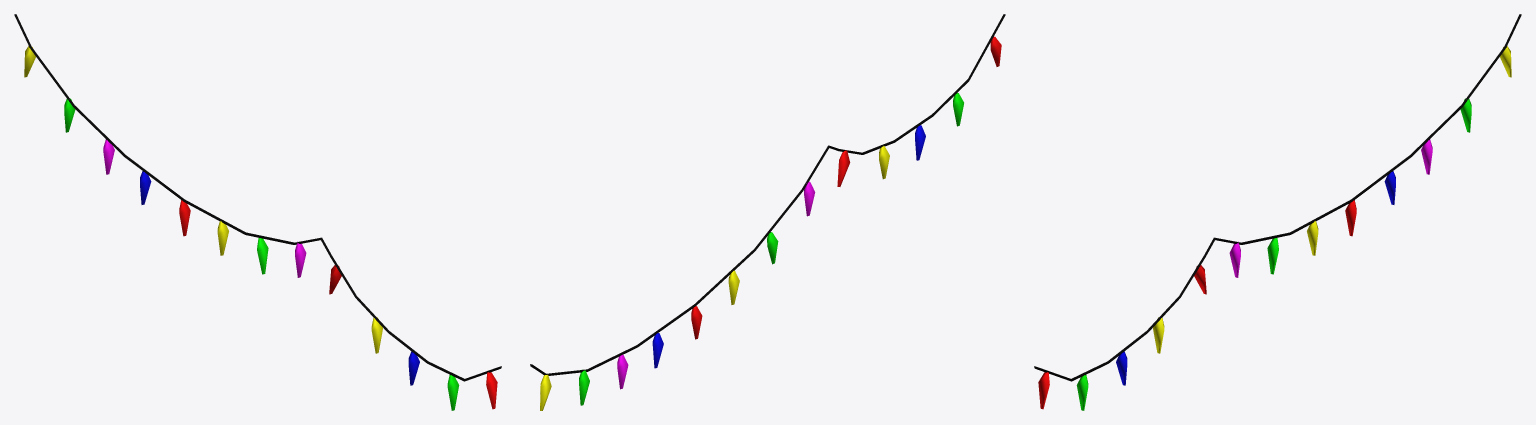
The model's file is ItemShop_ChristmasLights_Mesh.FBX.
3 views of the same model, side by side, from view 1: azimuth 30°, elevation 25°; view 2: azimuth 150°, elevation 25°; view 3: azimuth 330°, elevation 25° (orthographic). The views are drawn at different scales.
Parts seen in each view (by area): view 1: Christmas Lights; view 2: Christmas Lights; view 3: Christmas Lights.
Part boxes in pixels (<box>): Christmas Lights: <box>14,14,501,410</box>; Christmas Lights: <box>530,14,1005,410</box>; Christmas Lights: <box>1034,14,1521,410</box>.
Size of the model in its own units: 0.866 by 7.3 by 63.59.
